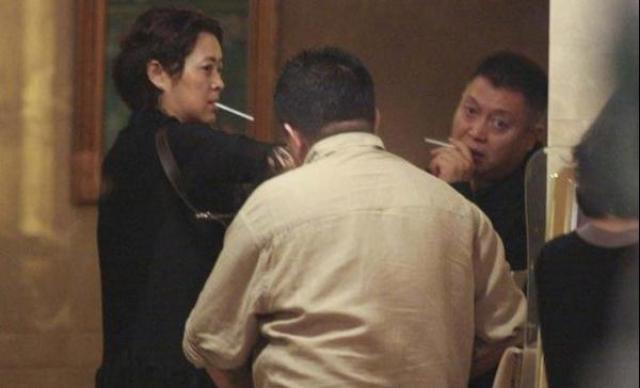SafeDriving: (486, 110, 514, 134), (460, 99, 482, 121), (195, 57, 216, 77)
Smoking: (212, 99, 256, 122), (420, 132, 456, 152)
